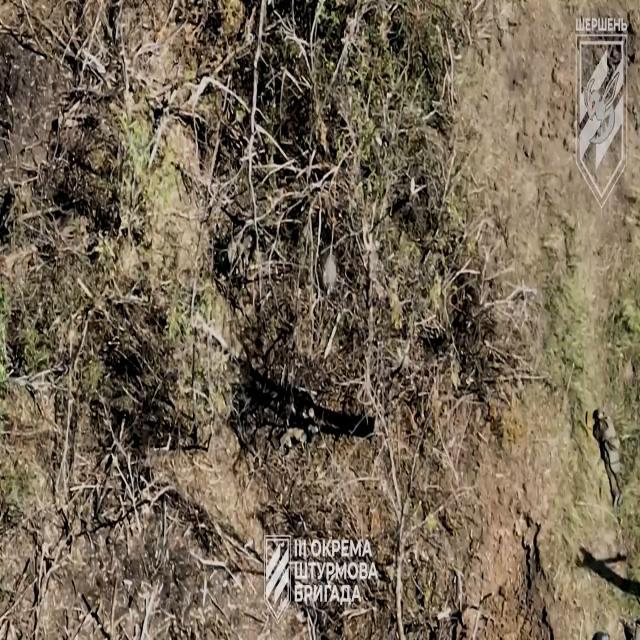MIL_Pax: (592, 409, 622, 506)
